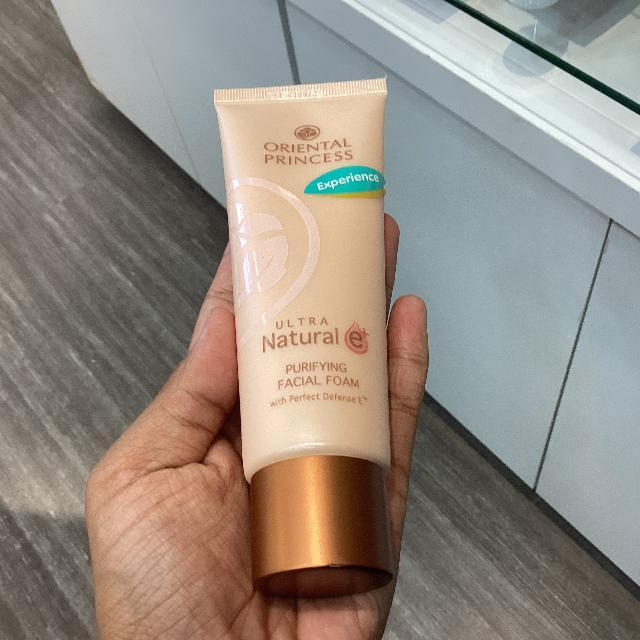Squeeze Tube: (184, 64, 448, 612)
